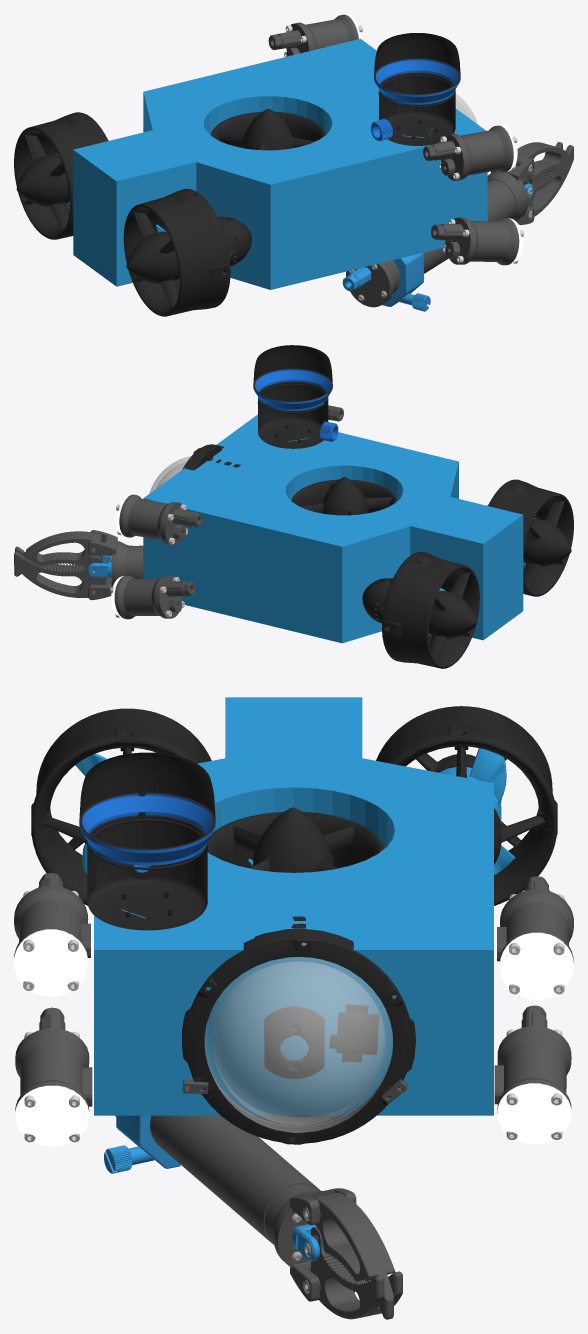
The model's file is SIMPLEROV_3.glb.
The picture shows the model from 3 angles, top to bottom: view 1: azimuth 30°, elevation 25°; view 2: azimuth 150°, elevation 25°; view 3: azimuth 270°, elevation 25°; orthographic projection. The views are drawn at different scales.
Visible parts, largest first — view 1: Cube, motor3, LUMEN-ASM-R3-PUBLIC.049, PING360.001, NEWTON_GRIPPER, motor4, motor6.standard; view 2: Cube, motor4, PING360.001, LUMEN-ASM-R3-PUBLIC.049, NEWTON_GRIPPER, motor3, motor6.standard, BROV2-HEAVY-ASM-BROV2-HEAVY-R1.065, BROV2-HEAVY-ASM-BROV2-HEAVY-R1.067; view 3: Cube, LUMEN-ASM-R3-PUBLIC.049, BROV2-HEAVY-ASM-BROV2-HEAVY-R1.065, NEWTON_GRIPPER, PING360.001, motor4, BROV2-HEAVY-ASM-BROV2-HEAVY-R1.066, motor3, motor6.standard, BROV2-HEAVY-ASM-BROV2-HEAVY-R1.001, BROV2-HEAVY-ASM-BROV2-HEAVY-R1.067.
Part boxes in pixels (x1=…): Cube: x1=73, y1=38, x2=487, y2=289; motor3: x1=123, y1=188, x2=251, y2=316; LUMEN-ASM-R3-PUBLIC.049: x1=268, y1=14, x2=523, y2=265; PING360.001: x1=371, y1=33, x2=460, y2=145; NEWTON_GRIPPER: x1=342, y1=142, x2=573, y2=311; motor4: x1=14, y1=112, x2=108, y2=239; motor6.standard: x1=211, y1=109, x2=325, y2=150; Cube: x1=143, y1=414, x2=523, y2=643; motor4: x1=362, y1=552, x2=479, y2=668; PING360.001: x1=253, y1=345, x2=338, y2=448; LUMEN-ASM-R3-PUBLIC.049: x1=110, y1=402, x2=343, y2=619; NEWTON_GRIPPER: x1=14, y1=530, x2=143, y2=600; motor3: x1=487, y1=479, x2=573, y2=596; motor6.standard: x1=291, y1=477, x2=397, y2=515; BROV2-HEAVY-ASM-BROV2-HEAVY-R1.065: x1=149, y1=455, x2=191, y2=492; BROV2-HEAVY-ASM-BROV2-HEAVY-R1.067: x1=188, y1=445, x2=231, y2=470; Cube: x1=94, y1=697, x2=493, y2=1115; LUMEN-ASM-R3-PUBLIC.049: x1=14, y1=873, x2=573, y2=1146; BROV2-HEAVY-ASM-BROV2-HEAVY-R1.065: x1=205, y1=942, x2=392, y2=1132; NEWTON_GRIPPER: x1=104, y1=1115, x2=402, y2=1319; PING360.001: x1=79, y1=752, x2=215, y2=930; motor4: x1=376, y1=706, x2=557, y2=905; BROV2-HEAVY-ASM-BROV2-HEAVY-R1.066: x1=182, y1=933, x2=415, y2=1144; motor3: x1=31, y1=708, x2=211, y2=905; motor6.standard: x1=207, y1=807, x2=383, y2=872; BROV2-HEAVY-ASM-BROV2-HEAVY-R1.001: x1=264, y1=1004, x2=378, y2=1078; BROV2-HEAVY-ASM-BROV2-HEAVY-R1.067: x1=243, y1=923, x2=353, y2=1125.
Size of the model in its own units: 0.4815 by 0.2215 by 0.2801.
